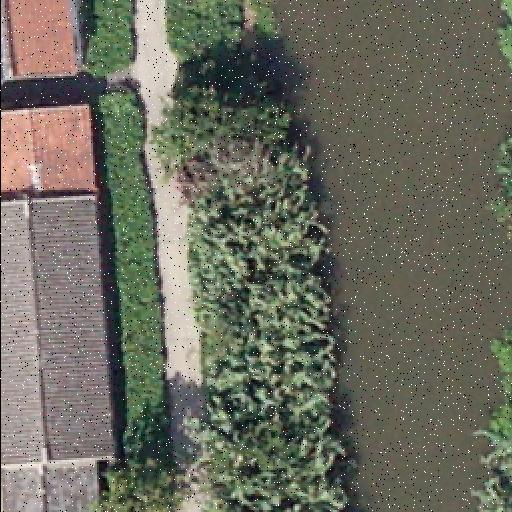solar-panel: (0, 12, 8, 84)
